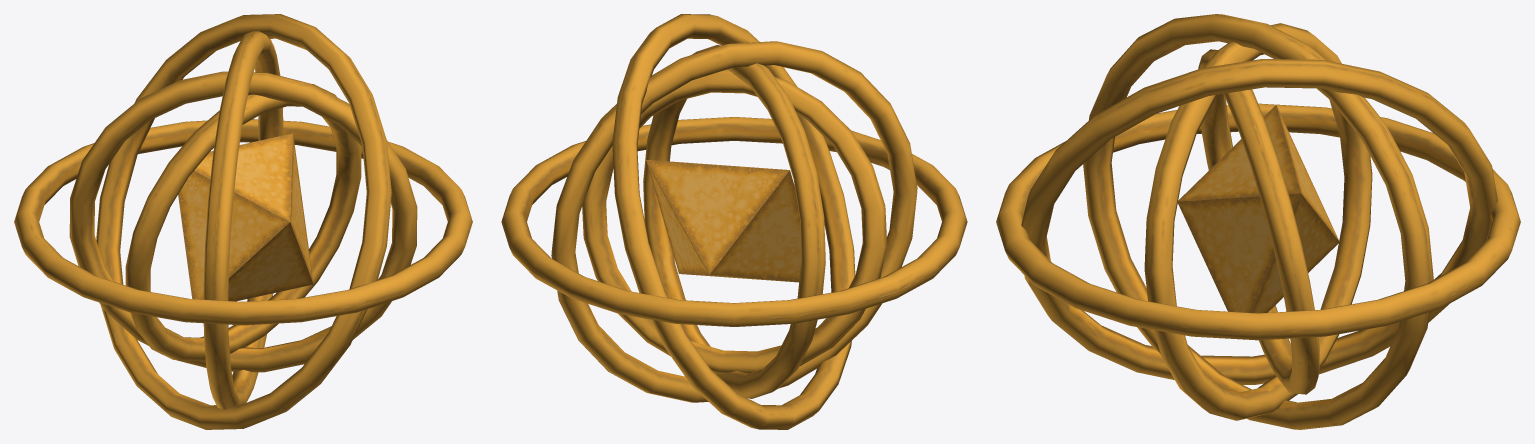
File: weapon_shield_ammo.fbx
3 renders of one model, left to right at view 1: azimuth 30°, elevation 25°; view 2: azimuth 150°, elevation 25°; view 3: azimuth 270°, elevation 25°, orthographic. The views are drawn at different scales.
Parts seen in each view (by area): view 1: Artifact08.001; view 2: Artifact08.001; view 3: Artifact08.001.
Part boxes in pixels (<box>): Artifact08.001: <box>14,14,472,429</box>; Artifact08.001: <box>501,14,967,429</box>; Artifact08.001: <box>996,14,1520,429</box>.
Bounding box in the file's own units: 162 × 136 × 162.
